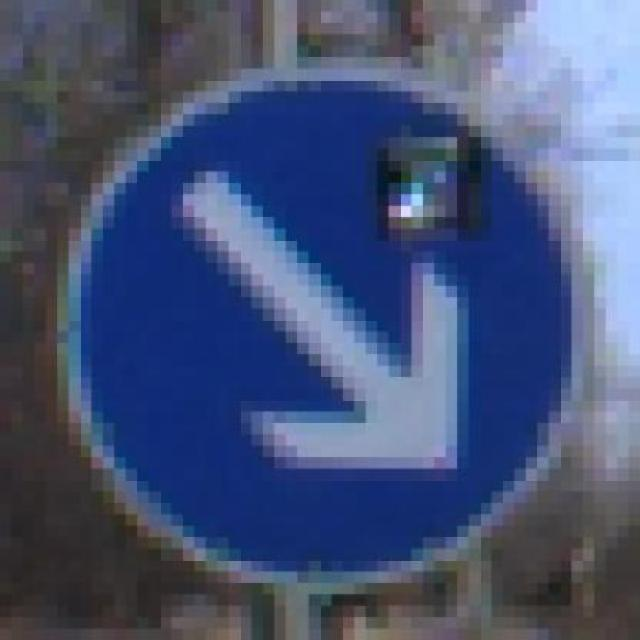Keep-Right: (34, 45, 606, 606)
